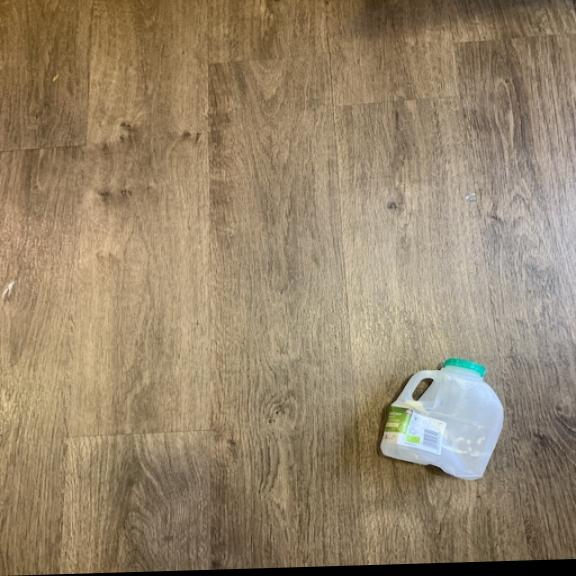Plastik: (374, 353, 511, 489)
